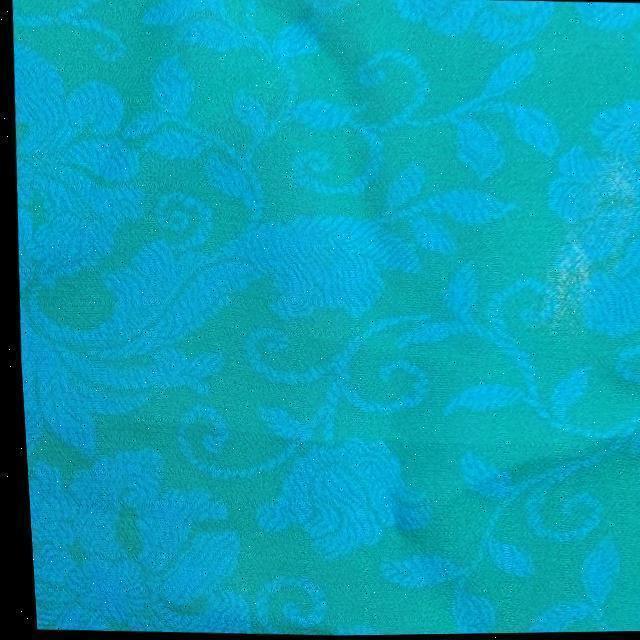stain: (526, 190, 626, 327)
